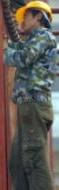boots: (11, 0, 26, 7)
gloves: (0, 88, 8, 106), (0, 118, 6, 128)
hard-hat: (0, 66, 16, 83)
